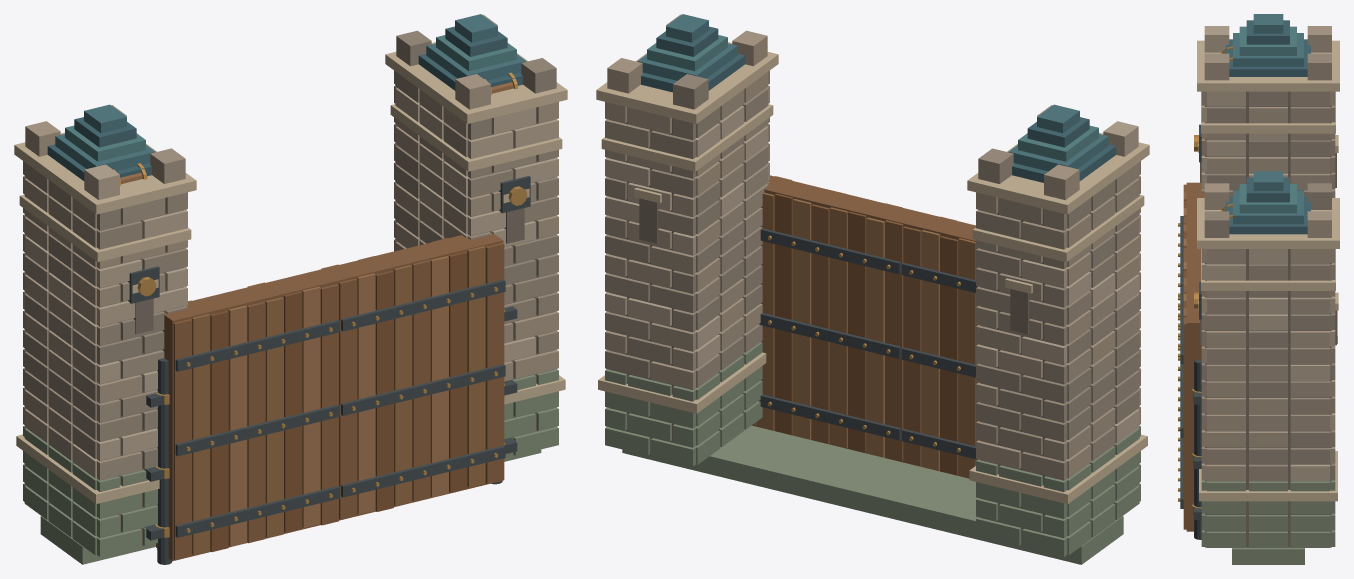
Rendered from comporta-do-lago.glb.
3 renders of one model, left to right at view 1: azimuth 30°, elevation 25°; view 2: azimuth 150°, elevation 25°; view 3: azimuth 270°, elevation 25°, orthographic. The views are drawn at different scales.
Visible parts, largest first — view 1: Calcário 2.001, Calcário 1.001, Cantaria clara, Calcário 4.001, Calcário 0.001, Pedra junto à água.001, Calcário 3.001, Cedro 0.003, Cedro 0.002, Cedro 3.001, Cedro 2.002, Cedro 1.001 (+14 smaller); view 2: Pedra junto à água.001, Calcário 4.001, Calcário 1.001, Calcário 0.001, Cantaria clara, Calcário 3.001, Calcário 2.001, Cedro 0.003, Cedro 2.002, Cedro 3.002, Cedro 1.002, Ferro escurecido.004 (+11 smaller); view 3: Calcário 0.001, Cantaria clara, Calcário 1.001, Calcário 4.001, Pedra junto à água.001, Calcário 2.001, Calcário 3.001, Argamassa.001, Ardósia 0.001, Ardósia 1.001, Folha CAD direita, Ardósia 2.001 (+8 smaller).
Part boxes in pixels (box(x1,y1,x2,y2)): Calcário 2.001: box(23, 88, 558, 478); Calcário 1.001: box(23, 105, 558, 460); Cantaria clara: box(14, 42, 567, 503); Calcário 4.001: box(23, 30, 558, 468); Calcário 0.001: box(24, 14, 558, 442); Pedra junto à água.001: box(23, 369, 558, 564); Calcário 3.001: box(23, 89, 535, 479); Cedro 0.003: box(321, 243, 504, 519); Cedro 0.002: box(156, 284, 338, 560); Cedro 3.001: box(228, 286, 320, 546); Cedro 2.002: box(358, 238, 467, 511); Cedro 1.001: box(188, 282, 283, 555); Pedra junto à água.001: box(605, 342, 1140, 564); Calcário 4.001: box(605, 14, 1140, 455); Calcário 1.001: box(605, 88, 1140, 480); Calcário 0.001: box(605, 30, 1140, 478); Cantaria clara: box(596, 42, 1149, 504); Calcário 3.001: box(605, 89, 1140, 460); Calcário 2.001: box(605, 85, 1140, 443); Cedro 0.003: box(752, 204, 903, 461); Cedro 2.002: box(774, 193, 866, 452); Cedro 3.002: box(793, 199, 902, 457); Cedro 1.002: box(756, 176, 848, 448); Ferro escurecido.004: box(759, 228, 901, 440); Calcário 0.001: box(1201, 26, 1335, 480); Cantaria clara: box(1197, 40, 1339, 501); Calcário 1.001: box(1201, 53, 1335, 480); Calcário 4.001: box(1201, 91, 1335, 480); Pedra junto à água.001: box(1201, 480, 1335, 564); Calcário 2.001: box(1201, 26, 1335, 480); Calcário 3.001: box(1204, 53, 1335, 430); Argamassa.001: box(1200, 91, 1336, 547); Ardósia 0.001: box(1226, 20, 1310, 234); Ardósia 1.001: box(1233, 14, 1303, 224); Folha CAD direita: box(1186, 252, 1201, 531); Ardósia 2.001: box(1239, 26, 1296, 213).
Bounding box in the file's own units: 12.32 × 10.61 × 4.21.
